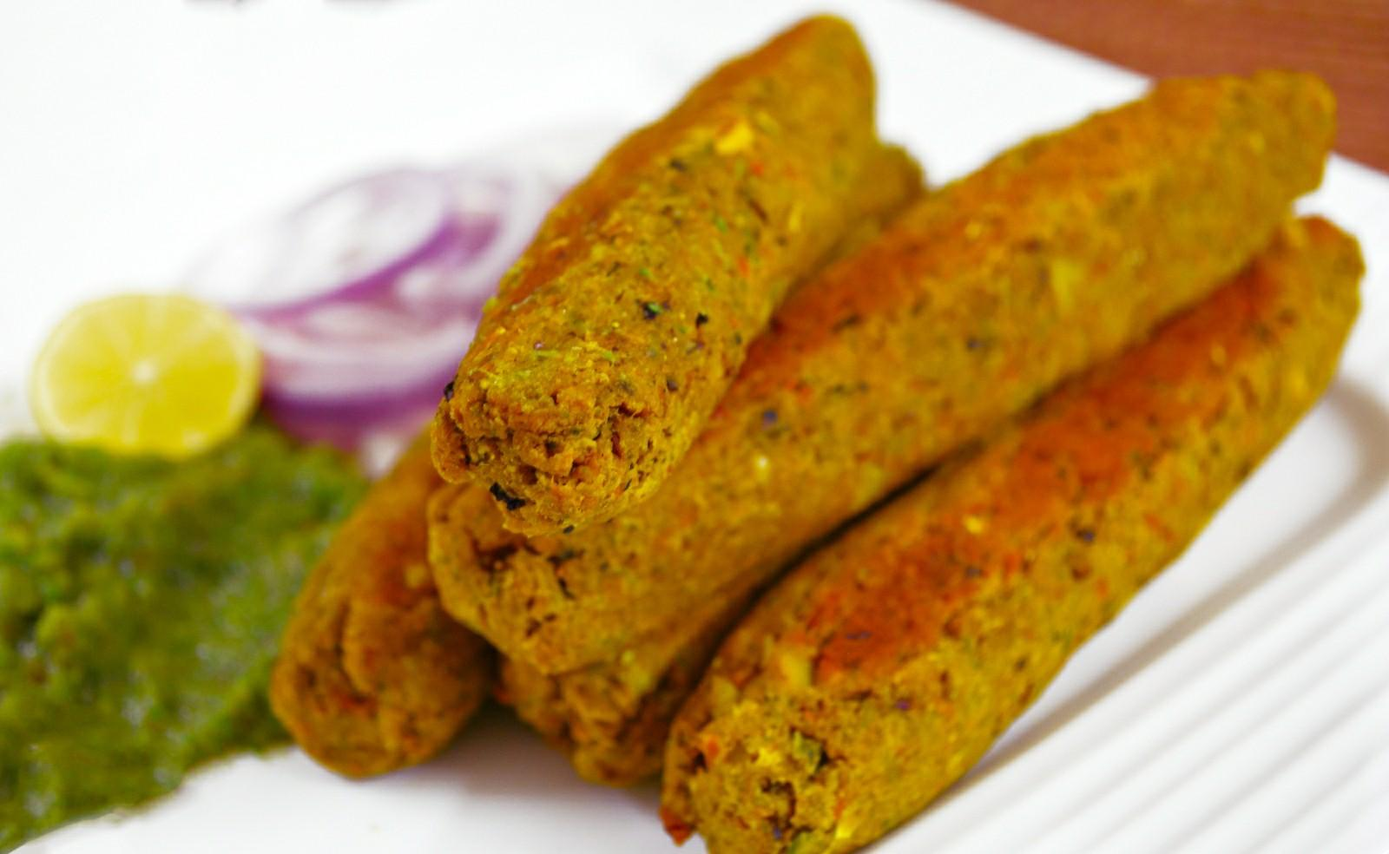GreenChutney: (0, 438, 375, 854)
Kebab: (429, 72, 1332, 673), (664, 215, 1366, 854), (270, 142, 926, 780), (428, 14, 876, 534)
